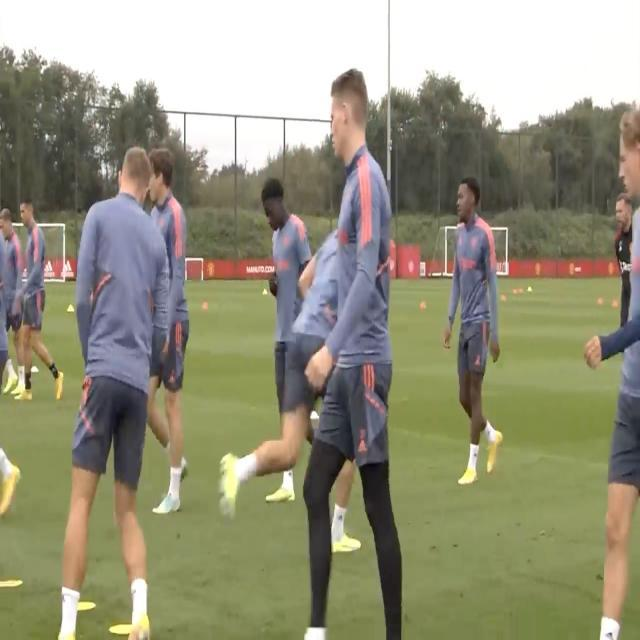Adidas: (60, 258, 74, 280), (43, 260, 56, 280), (357, 438, 368, 454)
